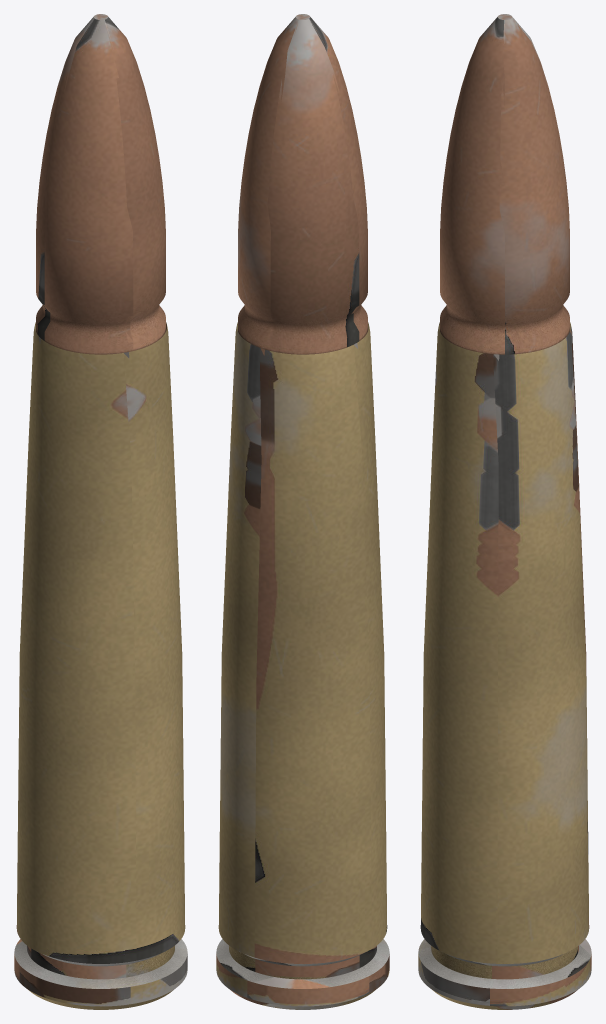
The model's file is round_sniper.glb.
The picture shows the model from 3 angles, left to right: view 1: azimuth 30°, elevation 25°; view 2: azimuth 150°, elevation 25°; view 3: azimuth 270°, elevation 25°; orthographic projection.
Parts seen in each view (by area): view 1: casing, bullet; view 2: casing, bullet; view 3: casing, bullet.
Boxes of the visible parts, box(x1,y1,x2,y2) form: casing: box(14, 322, 187, 1009); bullet: box(36, 14, 165, 354); casing: box(216, 322, 389, 1009); bullet: box(238, 14, 367, 354); casing: box(418, 322, 591, 1009); bullet: box(440, 14, 569, 354).
Size of the model in its own units: 0.0072 by 0.044 by 0.0072.
1 material, 1 textured.
